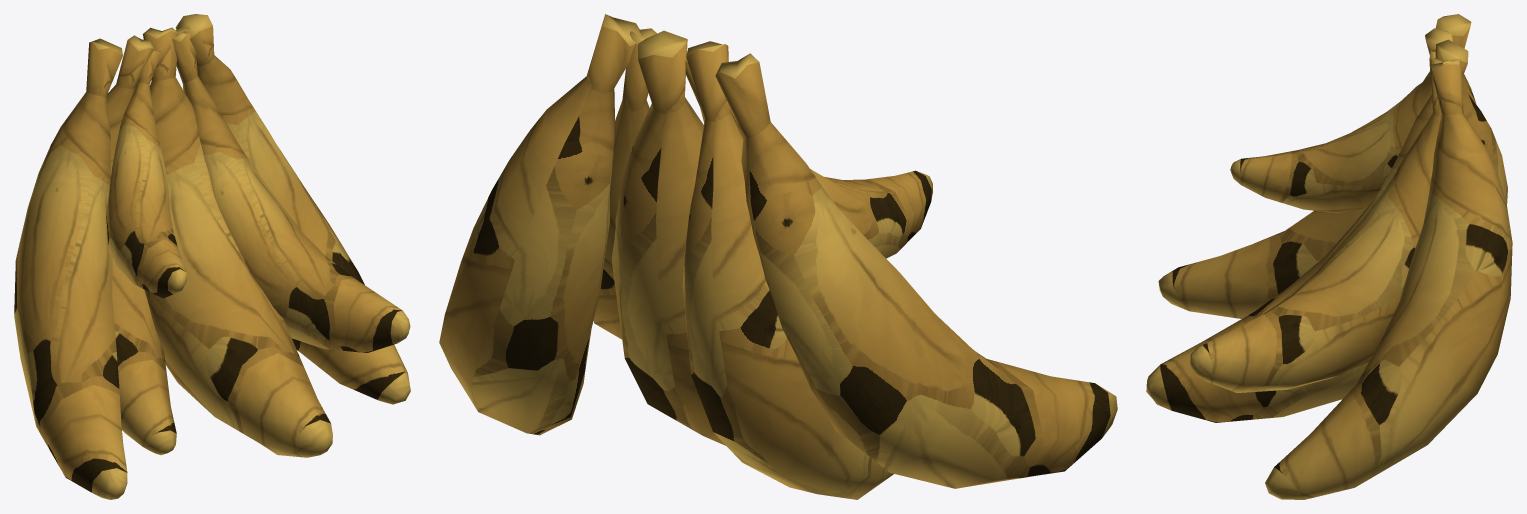
The model's file is banana_bunch.fbx.
The picture shows the model from 3 angles, left to right: view 1: azimuth 30°, elevation 25°; view 2: azimuth 150°, elevation 25°; view 3: azimuth 270°, elevation 25°; orthographic projection. The views are drawn at different scales.
Visible parts, largest first — view 1: banana_bunch; view 2: banana_bunch; view 3: banana_bunch.
Part boxes in pixels (x1,y1,x2,y2): banana_bunch: [14, 14, 410, 499]; banana_bunch: [439, 14, 1117, 499]; banana_bunch: [1146, 14, 1512, 499].
Size of the model in its own units: 13.01 by 10.62 by 12.11.
Materials: 1 (1 with a texture image).
